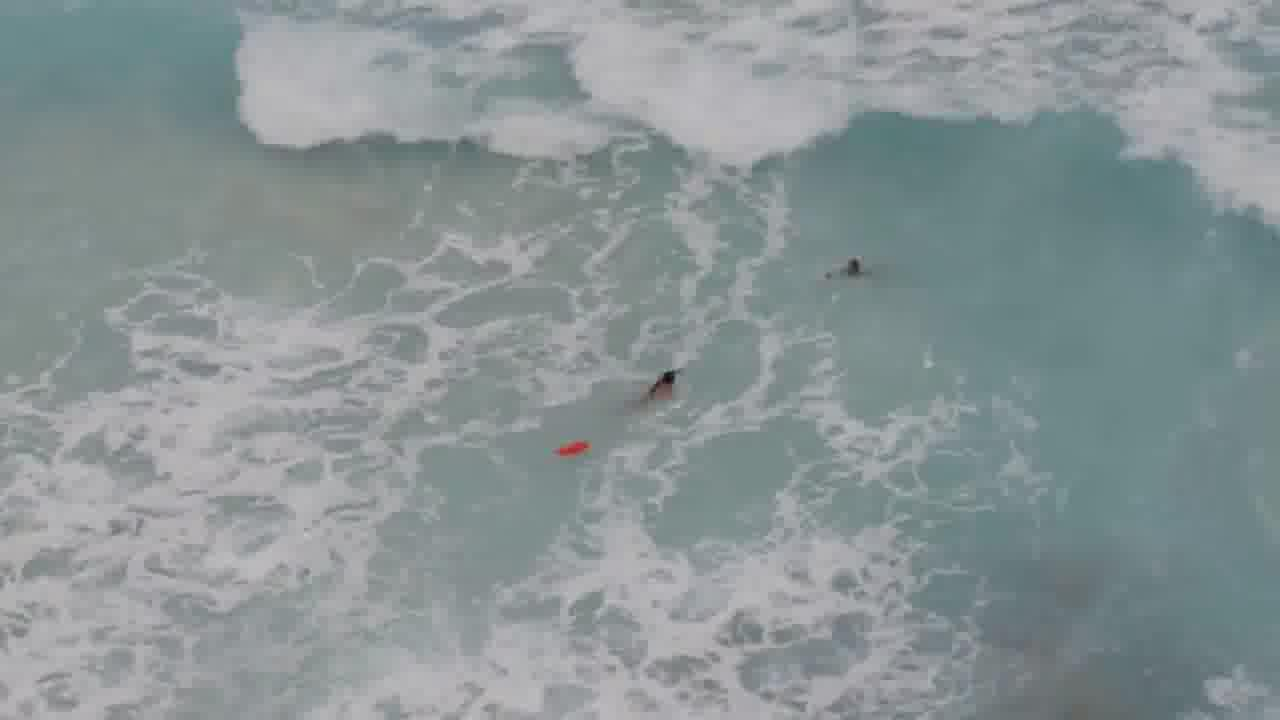swimmer: (643, 363, 691, 393), (825, 248, 877, 275)
